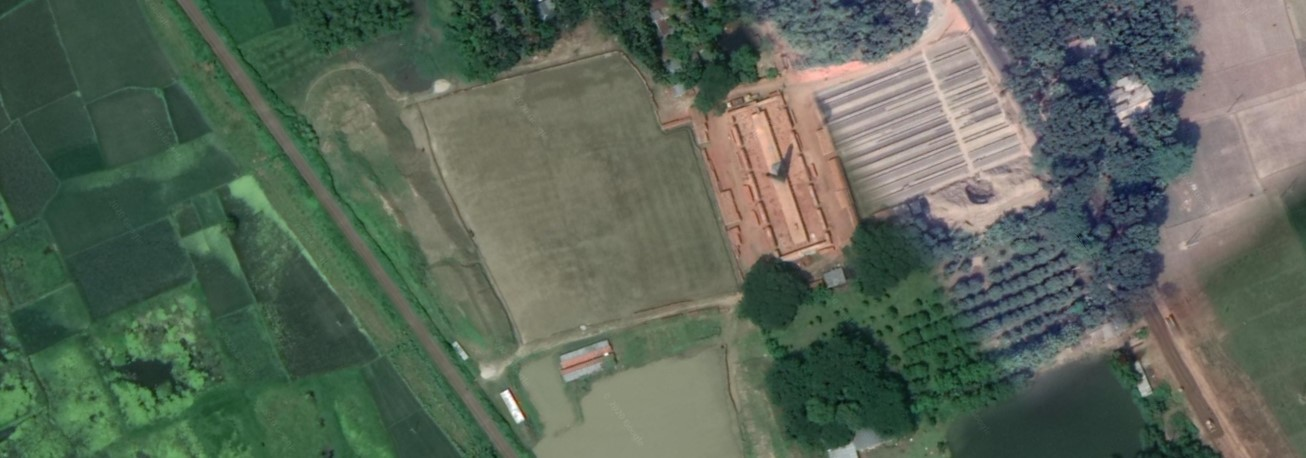kiln: (703, 115, 848, 243)
